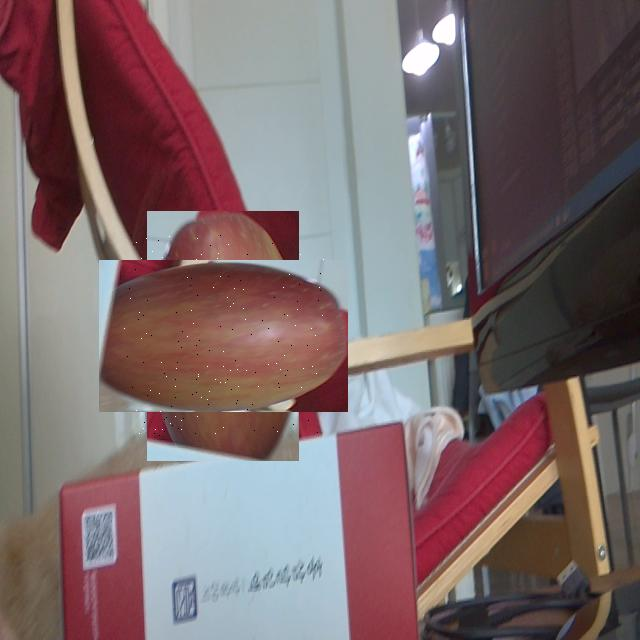apple: (122, 235, 324, 437)
